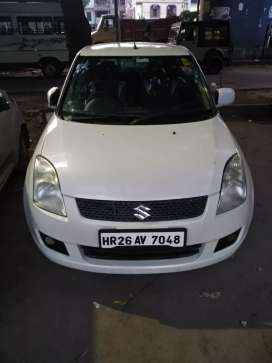license_plate: (96, 229, 190, 254)
